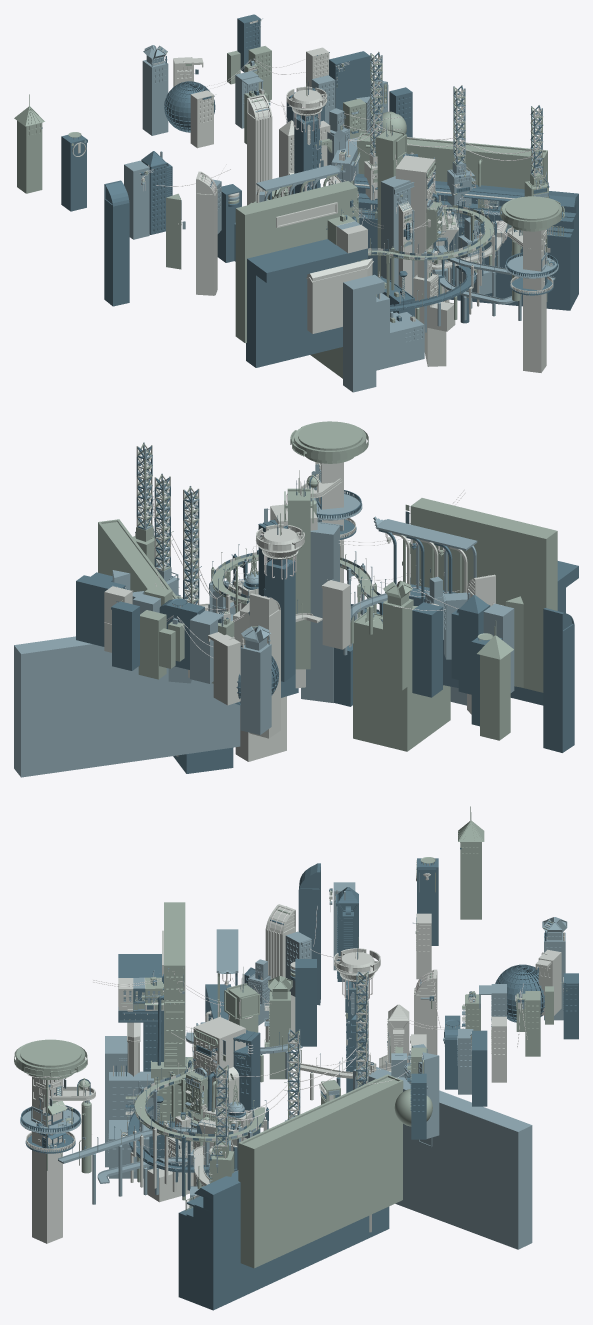
Rendered from cyberpunk.glb.
The picture shows the model from 3 angles, top to bottom: view 1: azimuth 30°, elevation 25°; view 2: azimuth 150°, elevation 25°; view 3: azimuth 270°, elevation 25°; orthographic projection. The views are drawn at different scales.
Visible parts, largest first — view 1: Cube.483, Cube.012, Cube.482, Cube.479, Cube.485, Cube.1133, Cube.004, Cube.484, Cube.481, Cube.2324, Cube.1134, Cube.1144 (+40 smaller); view 2: Cube.478, Cube.482, Cube.007, Cube.1133, Cube.001, Cube.1144, Cube.495, Cube.1132, Cube.002, Cube.479, Cube.687, Cylinder.001 (+33 smaller); view 3: Cube.479, Cube.478, Cube.012, Cube.004, Cube.482, Cube.481, Cylinder.001, Cube.483, Cube, Cube.1132, Cube.495, Cube.1133 (+40 smaller).
Part boxes in pixels (bbox=[...]): Cube.483: bbox=[246, 239, 367, 367]; Cube.012: bbox=[354, 173, 578, 310]; Cube.482: bbox=[235, 181, 359, 343]; Cube.479: bbox=[357, 132, 547, 189]; Cube.485: bbox=[343, 274, 384, 392]; Cube.1133: bbox=[104, 180, 129, 306]; Cube.004: bbox=[523, 229, 546, 372]; Cube.484: bbox=[306, 258, 373, 333]; Cube.481: bbox=[376, 293, 424, 370]; Cube.2324: bbox=[196, 171, 217, 295]; Cube.1134: bbox=[247, 94, 272, 205]; Cube.1144: bbox=[142, 45, 168, 135]; Cube.478: bbox=[14, 614, 240, 777]; Cube.482: bbox=[409, 498, 557, 692]; Cube.007: bbox=[353, 612, 450, 751]; Cube.1133: bbox=[543, 608, 574, 752]; Cube.001: bbox=[301, 522, 342, 702]; Cube.1144: bbox=[240, 625, 271, 734]; Cube.495: bbox=[383, 580, 413, 690]; Cube.1132: bbox=[477, 620, 513, 740]; Cube.002: bbox=[284, 488, 313, 669]; Cube.479: bbox=[98, 519, 177, 598]; Cube.687: bbox=[412, 602, 442, 697]; Cylinder.001: bbox=[290, 421, 368, 463]; Cube.479: bbox=[238, 1074, 403, 1268]; Cube.478: bbox=[353, 1067, 532, 1249]; Cube.012: bbox=[178, 1171, 389, 1310]; Cube.004: bbox=[32, 1077, 62, 1243]; Cube.482: bbox=[164, 902, 185, 1067]; Cube.481: bbox=[108, 1071, 153, 1178]; Cylinder.001: bbox=[14, 1039, 87, 1080]; Cube.483: bbox=[118, 954, 163, 1071]; Cube: bbox=[188, 1017, 245, 1186]; Cube.1132: bbox=[458, 806, 484, 919]; Cube.495: bbox=[268, 976, 292, 1079]; Cube.1133: bbox=[298, 863, 320, 1005].
Bounding box in the file's own units: 55.26 × 30.87 × 52.56.
